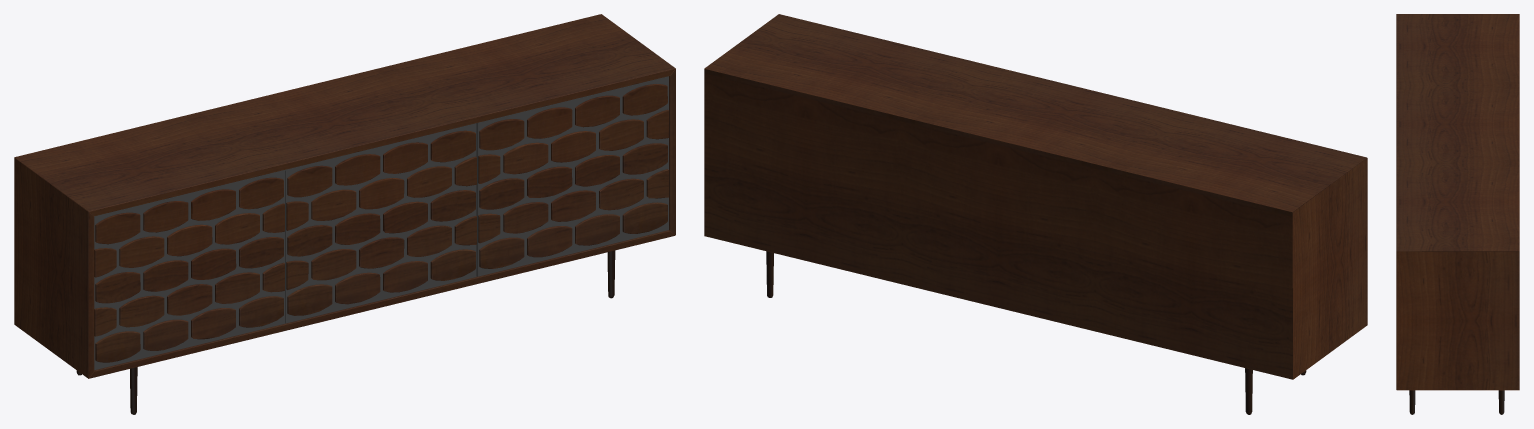
File: raw_model.obj
The picture shows the model from 3 angles, left to right: view 1: azimuth 30°, elevation 25°; view 2: azimuth 150°, elevation 25°; view 3: azimuth 270°, elevation 25°; orthographic projection. The views are drawn at different scales.
Parts seen in each view (by area): view 1: solid_002, solid_003, solid_001; view 2: solid_002, solid_001; view 3: solid_002, solid_001.
Boxes of the visible parts, left/top/right/bottom form: solid_002: left=14, top=14, right=675, bottom=378; solid_003: left=94, top=76, right=668, bottom=369; solid_001: left=76, top=250, right=615, bottom=414; solid_002: left=704, top=14, right=1367, bottom=379; solid_001: left=766, top=251, right=1306, bottom=414; solid_002: left=1396, top=14, right=1519, bottom=390; solid_001: left=1409, top=390, right=1504, bottom=414.
Size of the model in its own units: 2.14 by 0.7779 by 0.47.
1 material, 1 textured.
